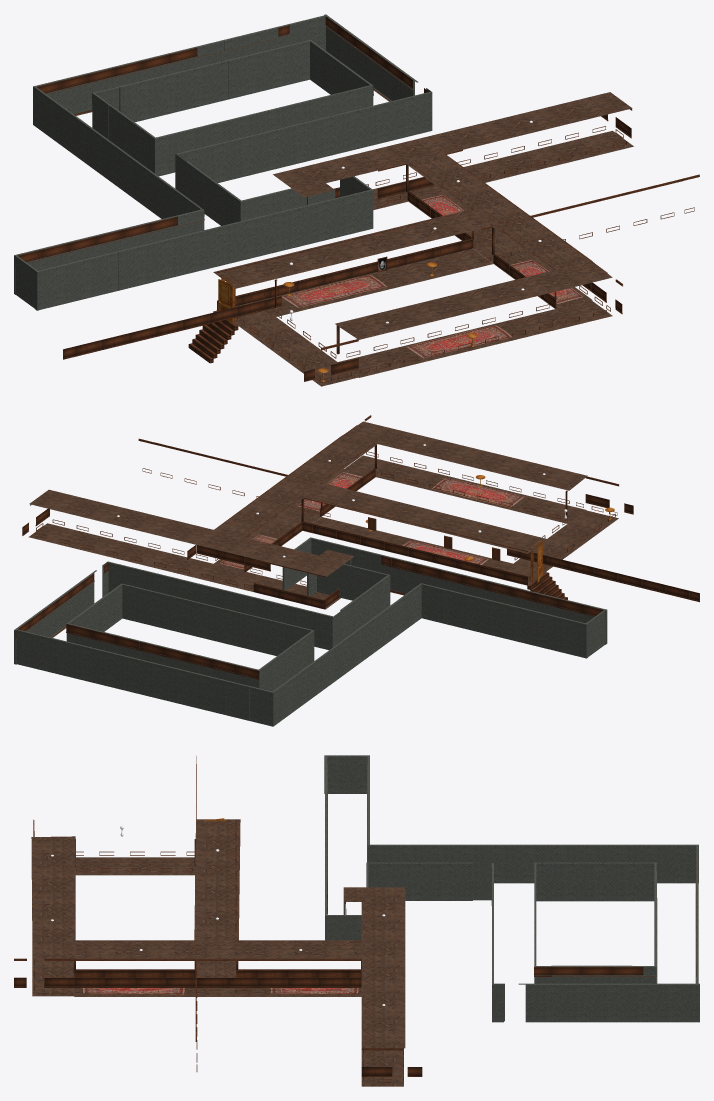
File: House_Corridor_Interior.fbx
3 views of the same model, one above another, from view 1: azimuth 30°, elevation 25°; view 2: azimuth 150°, elevation 25°; view 3: azimuth 270°, elevation 25° (orthographic). The views are drawn at different scales.
Parts seen in each view (by area): view 1: duvar_071_169, giri_______zemin_007_192, giri_______zemin_002_103, giri_______zemin_004_141, giri_______zemin_7, giri_______zemin_003_123, duvar_orta_009_4, duvar_orta_011_6, giri_______zemin_001_50, duvar_002_175, duvar_009_182, Plane_193 (+5 smaller); view 2: duvar_071_169, giri_______zemin_007_192, giri_______zemin_004_141, giri_______zemin_002_103, duvar_orta_009_4, duvar_008_181, giri_______zemin_003_123, duvar_003_176, giri_______zemin_7, duvar_orta_011_6, giri_______zemin_001_50, Plane_003_204 (+7 smaller); view 3: duvar_071_169, giri_______zemin_007_192, giri_______zemin_003_123, giri_______zemin_001_50, giri_______zemin_004_141, giri_______zemin_002_103, duvar_orta_025_17, duvar_012_184, duvar_orta_023_15, giri_______zemin_7, Plane_001_194, Plane_002_195.
Boxes of the visible parts, box(x1,y1,x2,y2) form: duvar_071_169: box(14, 14, 432, 310); giri_______zemin_007_192: box(213, 92, 632, 339); giri_______zemin_002_103: box(338, 300, 612, 377); giri_______zemin_004_141: box(373, 131, 633, 208); giri_______zemin_7: box(217, 248, 492, 326); giri_______zemin_003_123: box(239, 317, 358, 386); duvar_orta_009_4: box(217, 238, 473, 310); duvar_orta_011_6: box(63, 296, 281, 359); giri_______zemin_001_50: box(408, 192, 592, 309); duvar_002_175: box(37, 25, 289, 94); duvar_009_182: box(15, 216, 204, 264); Plane_193: box(281, 275, 386, 307); duvar_071_169: box(14, 537, 607, 726); giri_______zemin_007_192: box(29, 421, 587, 576); giri_______zemin_004_141: box(28, 523, 270, 591); giri_______zemin_002_103: box(344, 455, 586, 523); duvar_orta_009_4: box(302, 521, 528, 585); duvar_008_181: box(381, 555, 605, 619); giri_______zemin_003_123: box(514, 510, 618, 571); duvar_003_176: box(66, 624, 259, 679); giri_______zemin_7: box(303, 517, 546, 585); duvar_orta_011_6: box(507, 549, 699, 602); giri_______zemin_001_50: box(214, 469, 375, 571); Plane_003_204: box(432, 478, 524, 507); duvar_071_169: box(324, 755, 699, 1022); giri_______zemin_007_192: box(31, 819, 405, 1048); giri_______zemin_003_123: box(75, 857, 195, 875); giri_______zemin_001_50: box(74, 988, 361, 996); giri_______zemin_004_141: box(361, 1048, 403, 1086); giri_______zemin_002_103: box(32, 958, 74, 996); duvar_orta_025_17: box(236, 969, 360, 977); duvar_012_184: box(534, 967, 656, 976); duvar_orta_023_15: box(74, 969, 196, 977); giri_______zemin_7: box(195, 875, 236, 977); Plane_001_194: box(82, 988, 184, 994); Plane_002_195: box(270, 988, 358, 993).
Size of the model in its own units: 2938 by 300 by 2723.
12 materials, 9 textured.
